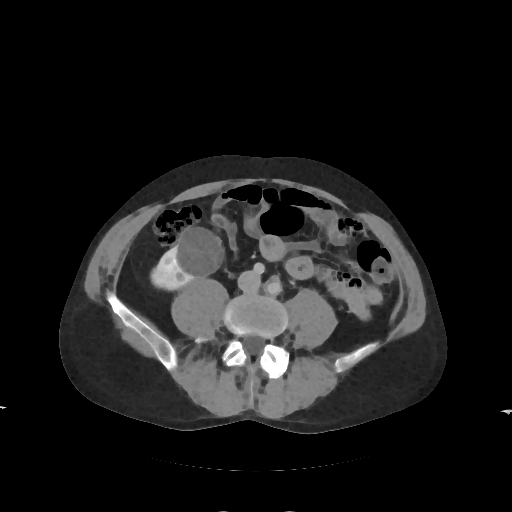Lesion: (176, 227, 227, 280)
